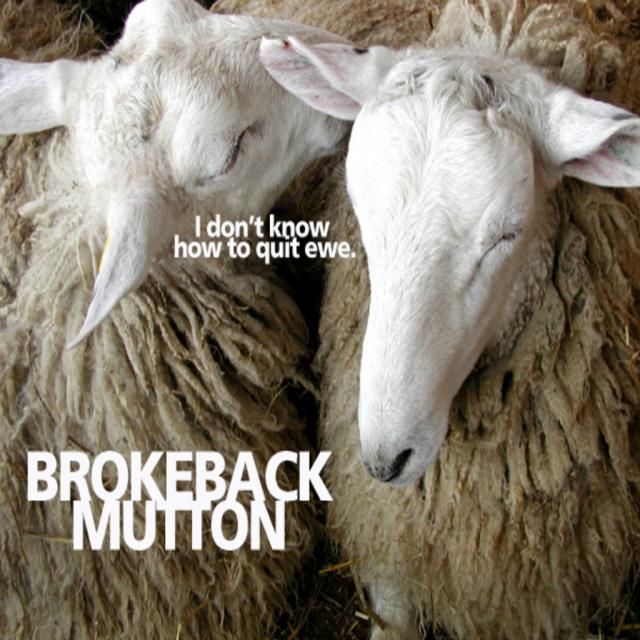Sheep: (258, 0, 640, 640), (0, 0, 361, 639)
